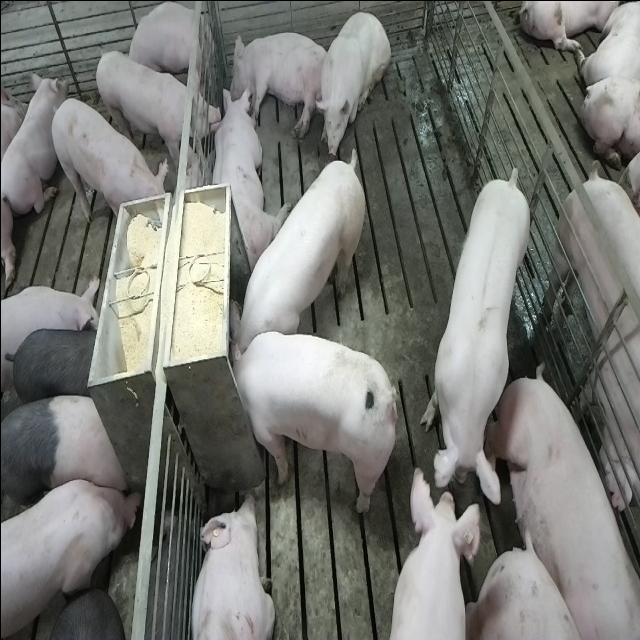Feeding: (220, 329, 392, 517), (231, 142, 367, 356)
Lateral_lying: (491, 364, 637, 640), (228, 29, 330, 140)
Sitting: (315, 6, 390, 158)
Standing: (420, 166, 532, 512), (542, 172, 640, 523), (1, 475, 140, 640), (387, 465, 486, 640), (49, 94, 168, 230), (2, 391, 129, 516), (92, 46, 220, 164), (3, 322, 110, 412)
Sternal_lying: (208, 80, 284, 266), (186, 490, 274, 640), (2, 72, 62, 222), (126, 2, 204, 86)
